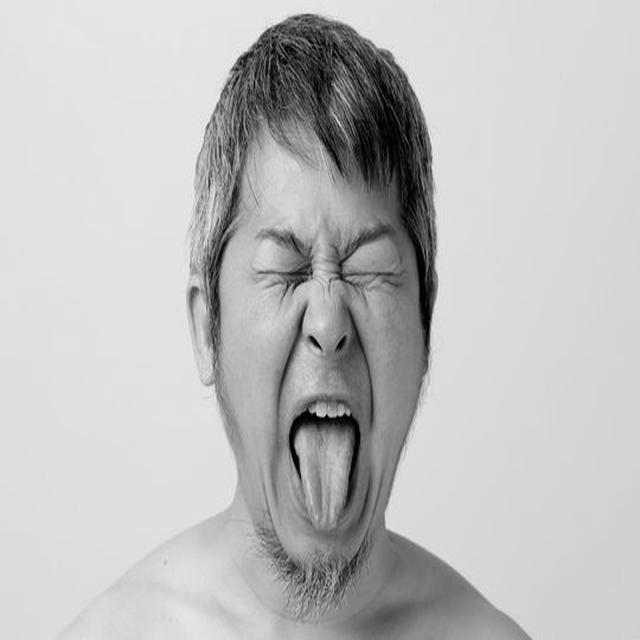Disgust: (216, 112, 426, 568)
